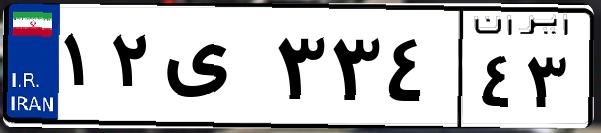1: (57, 26, 110, 100)
2: (110, 28, 158, 98)
3: (270, 28, 330, 110), (330, 28, 385, 110), (525, 38, 570, 115)
4: (385, 28, 445, 110), (475, 38, 525, 113)
ی: (158, 20, 270, 120)
